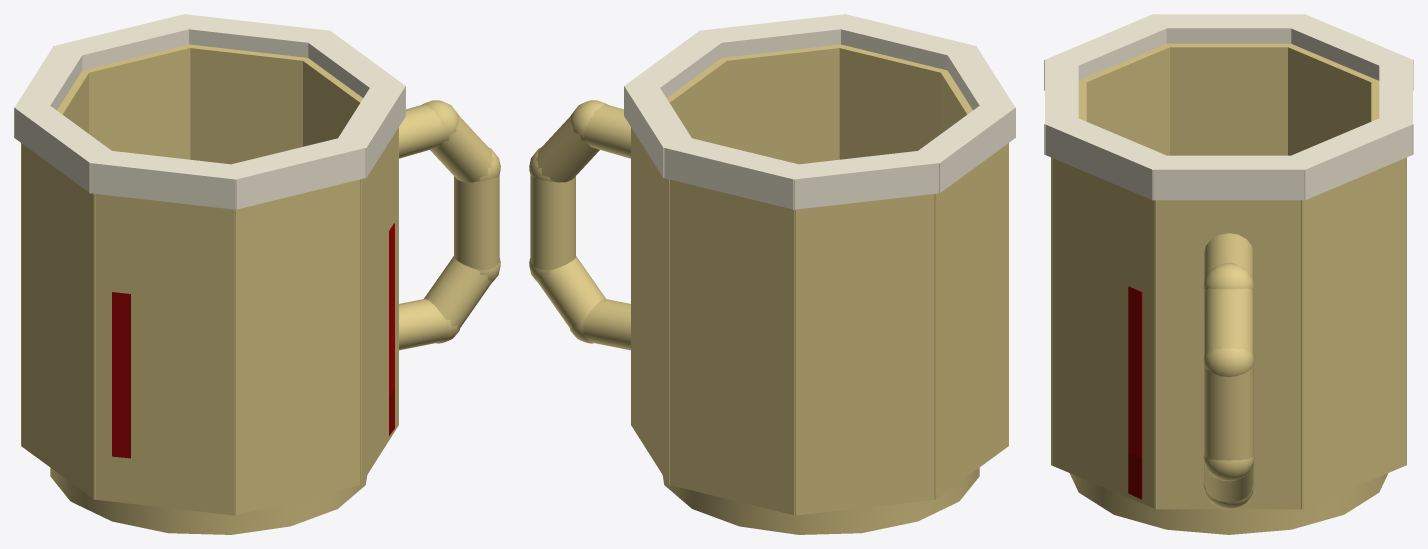
Rendered from CMU3DDrinkMugOneDrinksExtraCloud.glb.
3 views of the same model, side by side, from view 1: azimuth 30°, elevation 25°; view 2: azimuth 150°, elevation 25°; view 3: azimuth 270°, elevation 25° (orthographic).
Visible parts, largest first — view 1: ceramic cup wall 06, ceramic cup wall 07, ceramic cup wall 05, ceramic cup wall 02, ceramic cup wall 08, ceramic cup wall 03, rounded mouth rim 06, thick ceramic base, rounded mouth rim 07, rounded mouth rim 05, rounded mouth rim 02, ceramic handle segment 2 (+13 smaller); view 2: ceramic cup wall 04, ceramic cup wall 03, ceramic cup wall 05, ceramic cup wall 08, ceramic cup wall 02, ceramic cup wall 07, rounded mouth rim 04, thick ceramic base, rounded mouth rim 03, rounded mouth rim 05, ceramic handle segment 2, rounded mouth rim 08 (+11 smaller); view 3: ceramic cup wall 01, ceramic cup wall 02, ceramic cup wall 08, ceramic cup wall 05, rounded mouth rim 01, ceramic cup wall 04, ceramic cup wall 06, thick ceramic base, rounded mouth rim 02, rounded mouth rim 08, ceramic handle segment 2, rounded mouth rim 05 (+13 smaller).
Boxes of the visible parts, x1=… form: ceramic cup wall 06: x1=93, y1=194, x2=235, y2=515; ceramic cup wall 07: x1=234, y1=179, x2=361, y2=515; ceramic cup wall 05: x1=21, y1=143, x2=95, y2=499; ceramic cup wall 02: x1=179, y1=44, x2=312, y2=164; ceramic cup wall 08: x1=360, y1=128, x2=398, y2=484; ceramic cup wall 03: x1=89, y1=44, x2=195, y2=159; rounded mouth rim 06: x1=89, y1=149, x2=244, y2=209; thick ceramic base: x1=50, y1=468, x2=367, y2=534; rounded mouth rim 07: x1=219, y1=135, x2=367, y2=209; rounded mouth rim 05: x1=14, y1=105, x2=117, y2=193; rounded mouth rim 02: x1=175, y1=14, x2=330, y2=57; ceramic handle segment 2: x1=454, y1=175, x2=499, y2=270; ceramic cup wall 04: x1=794, y1=194, x2=936, y2=515; ceramic cup wall 03: x1=668, y1=179, x2=795, y2=515; ceramic cup wall 05: x1=934, y1=143, x2=1008, y2=499; ceramic cup wall 08: x1=716, y1=44, x2=849, y2=164; ceramic cup wall 02: x1=631, y1=128, x2=669, y2=484; ceramic cup wall 07: x1=831, y1=44, x2=940, y2=159; rounded mouth rim 04: x1=788, y1=149, x2=940, y2=209; thick ceramic base: x1=662, y1=468, x2=979, y2=534; rounded mouth rim 03: x1=662, y1=135, x2=810, y2=209; rounded mouth rim 05: x1=918, y1=100, x2=1015, y2=193; ceramic handle segment 2: x1=530, y1=175, x2=575, y2=270; rounded mouth rim 08: x1=699, y1=14, x2=848, y2=57; ceramic cup wall 01: x1=1154, y1=200, x2=1303, y2=509; ceramic cup wall 02: x1=1301, y1=157, x2=1406, y2=509; ceramic cup wall 08: x1=1051, y1=157, x2=1156, y2=509; ceramic cup wall 05: x1=1159, y1=43, x2=1298, y2=155; rounded mouth rim 01: x1=1152, y1=155, x2=1305, y2=200; ceramic cup wall 04: x1=1280, y1=43, x2=1379, y2=155; ceramic cup wall 06: x1=1078, y1=43, x2=1175, y2=155; thick ceramic base: x1=1069, y1=473, x2=1388, y2=534; rounded mouth rim 02: x1=1281, y1=114, x2=1413, y2=200; rounded mouth rim 08: x1=1044, y1=114, x2=1176, y2=200; ceramic handle segment 2: x1=1204, y1=364, x2=1253, y2=460; rounded mouth rim 05: x1=1152, y1=14, x2=1305, y2=43.
Bounding box in the file's own units: 0.3544 × 0.2815 × 0.2517.
Materials: 5 (3 with a texture image).
